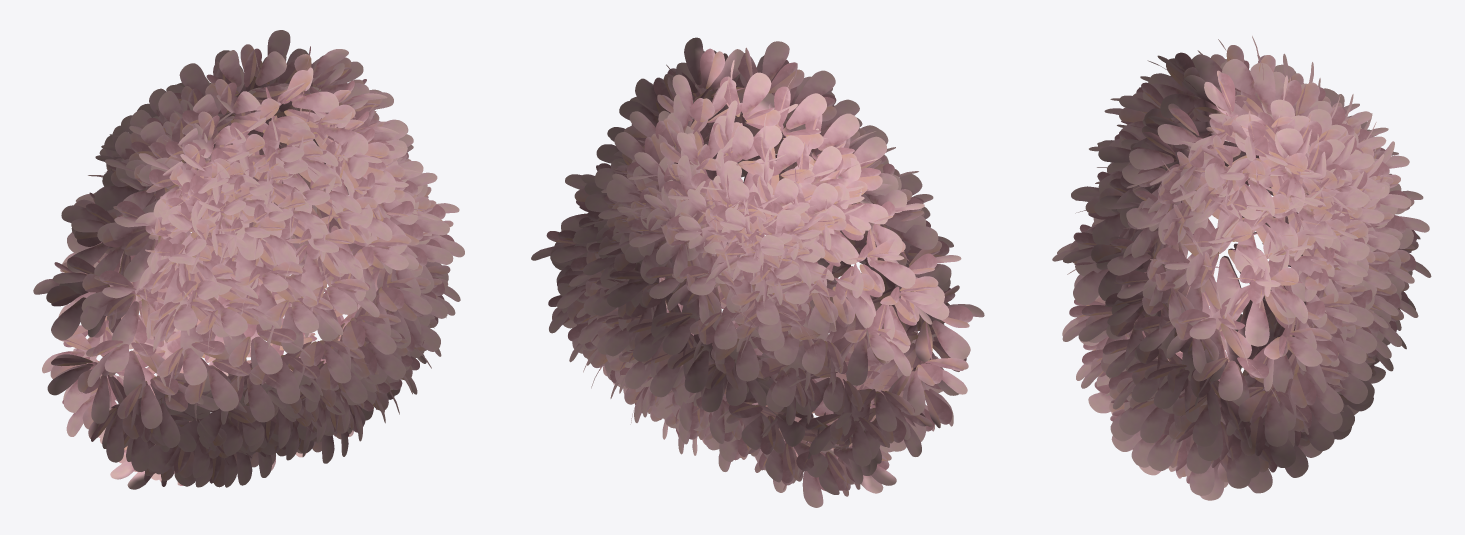
The model's file is Mesh_Foliage6_feuille.fbx.
3 views of the same model, side by side, from view 1: azimuth 30°, elevation 25°; view 2: azimuth 150°, elevation 25°; view 3: azimuth 270°, elevation 25° (orthographic). The views are drawn at different scales.
Visible parts, largest first — view 1: Plane070; view 2: Plane070; view 3: Plane070.
Part boxes in pixels (left/top/right/bottom): Plane070: left=33, top=30, right=464, bottom=489; Plane070: left=531, top=37, right=984, bottom=507; Plane070: left=1052, top=36, right=1431, bottom=500.
Bounding box in the file's own units: 359 × 367 × 282.
